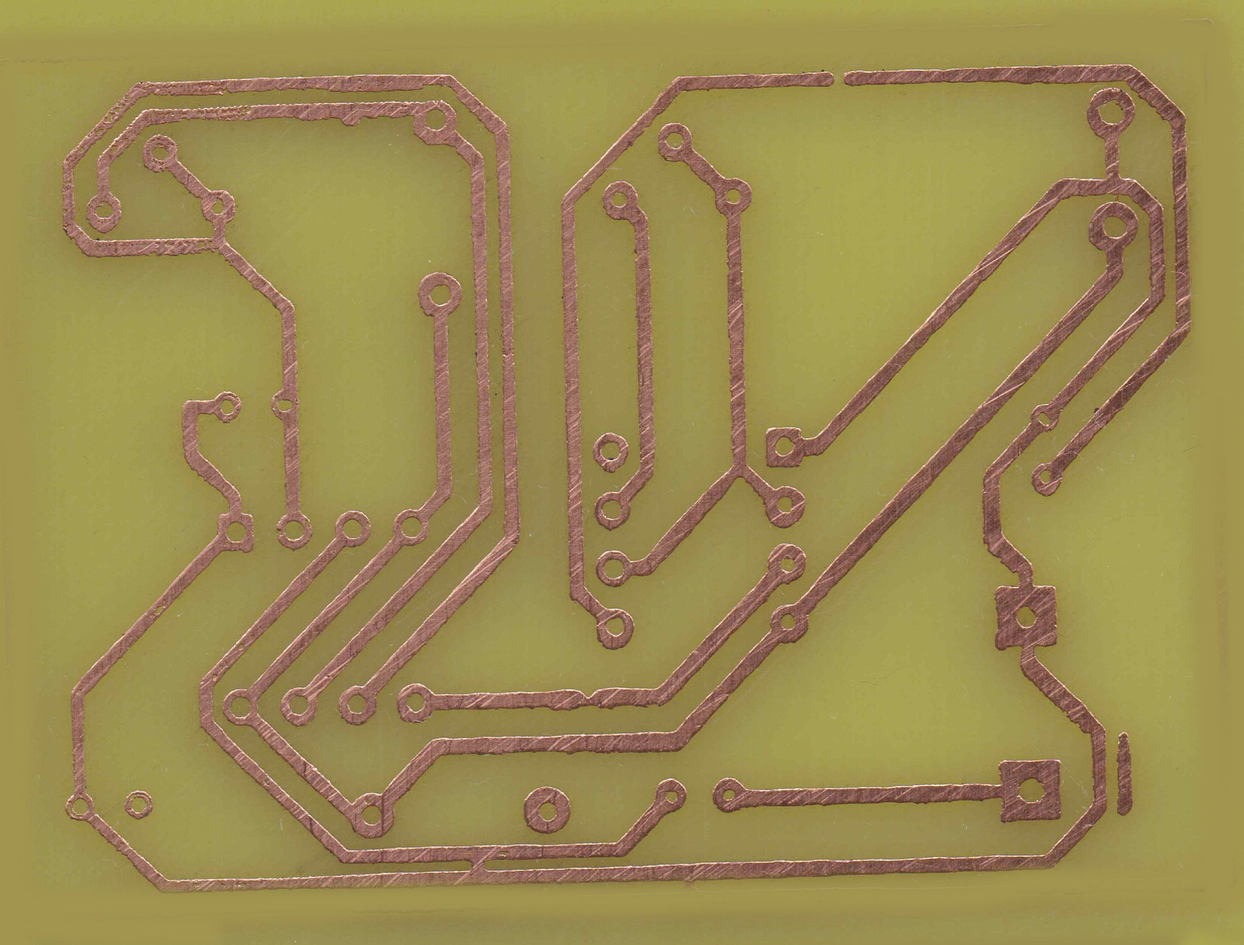mouse_bite: (574, 686, 604, 710)
open_circuit: (821, 65, 858, 93)
short: (464, 841, 494, 892)
spur: (338, 99, 364, 130)
spurious_copper: (1108, 722, 1136, 821)
